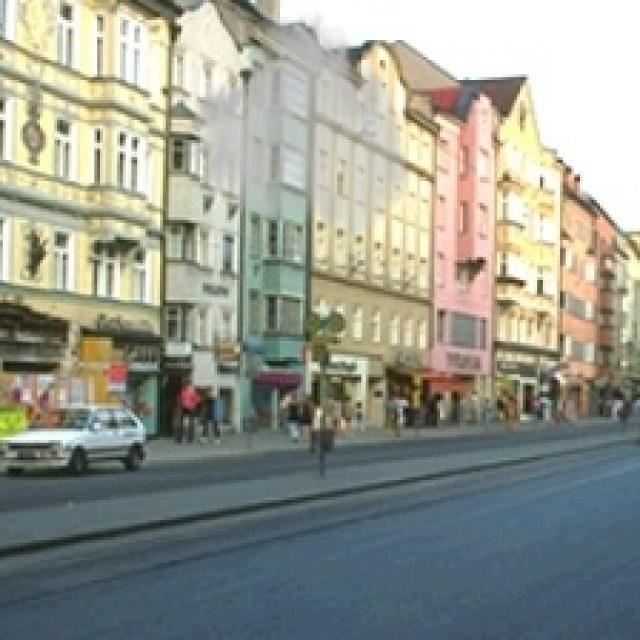Smoke: (188, 3, 412, 243)
